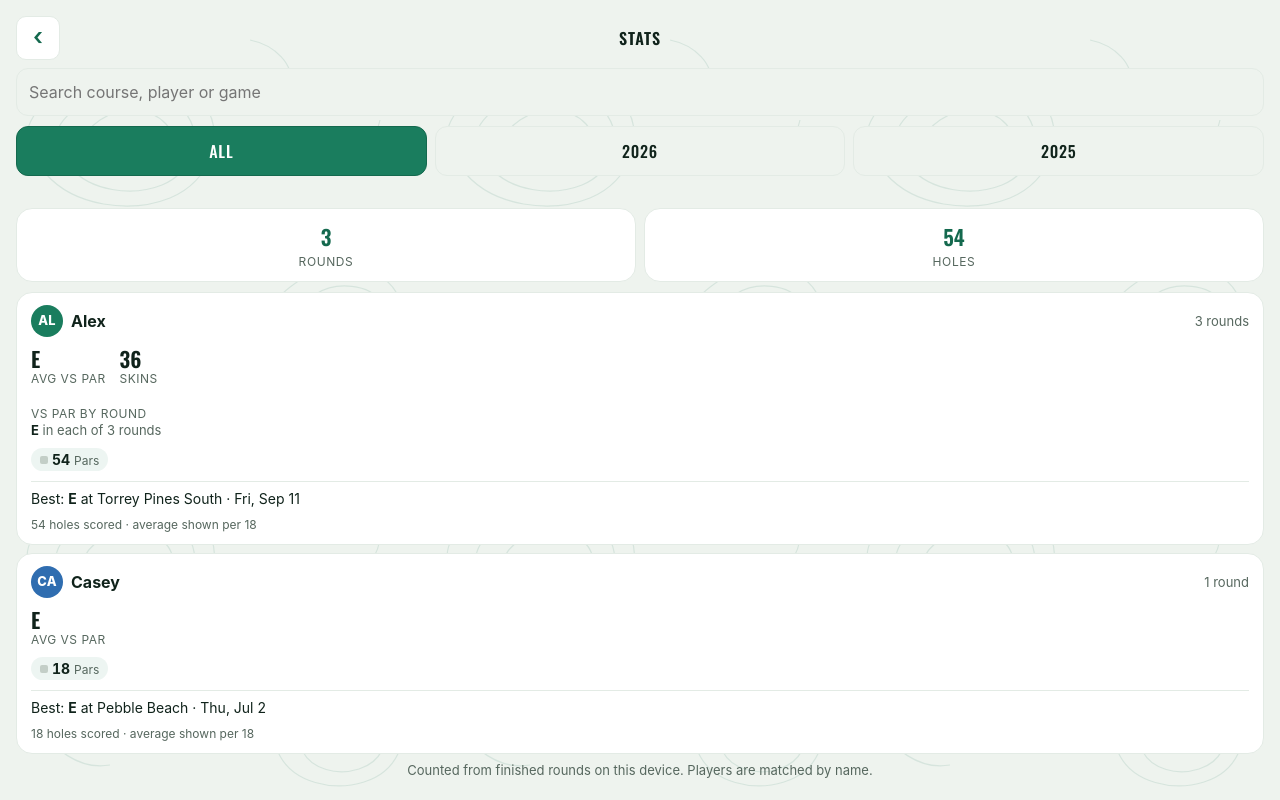
Scenario: filtering the stats › gives back everybody when the search is cleared
This screenshot has width=1280, height=800.
In the search field named "Search rounds": {"x": 640, "y": 92} [16,68,1264,116], type "casey"
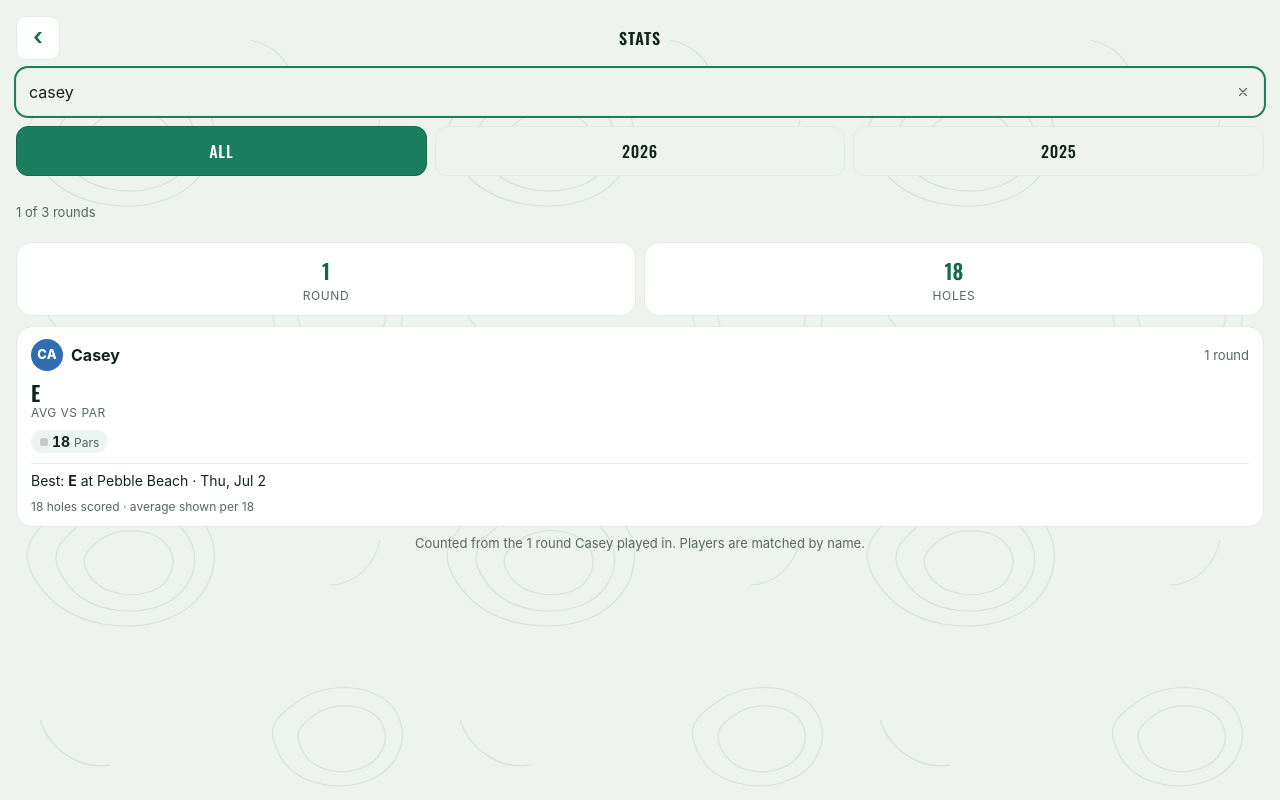
Click the button named "Clear search": {"x": 1243, "y": 92} [1226,75,1260,109]
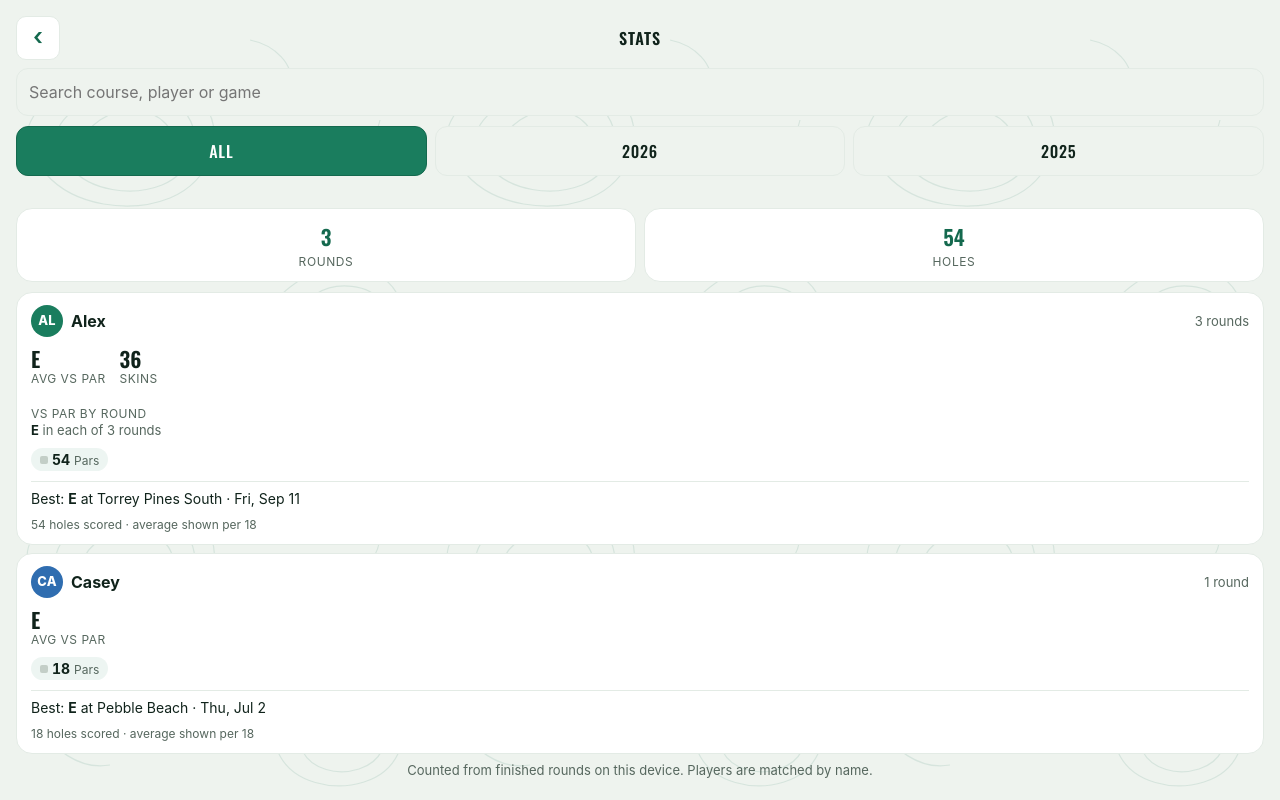
Expected: the text with class "hint" shows "on this device", [407,762,873,778]
